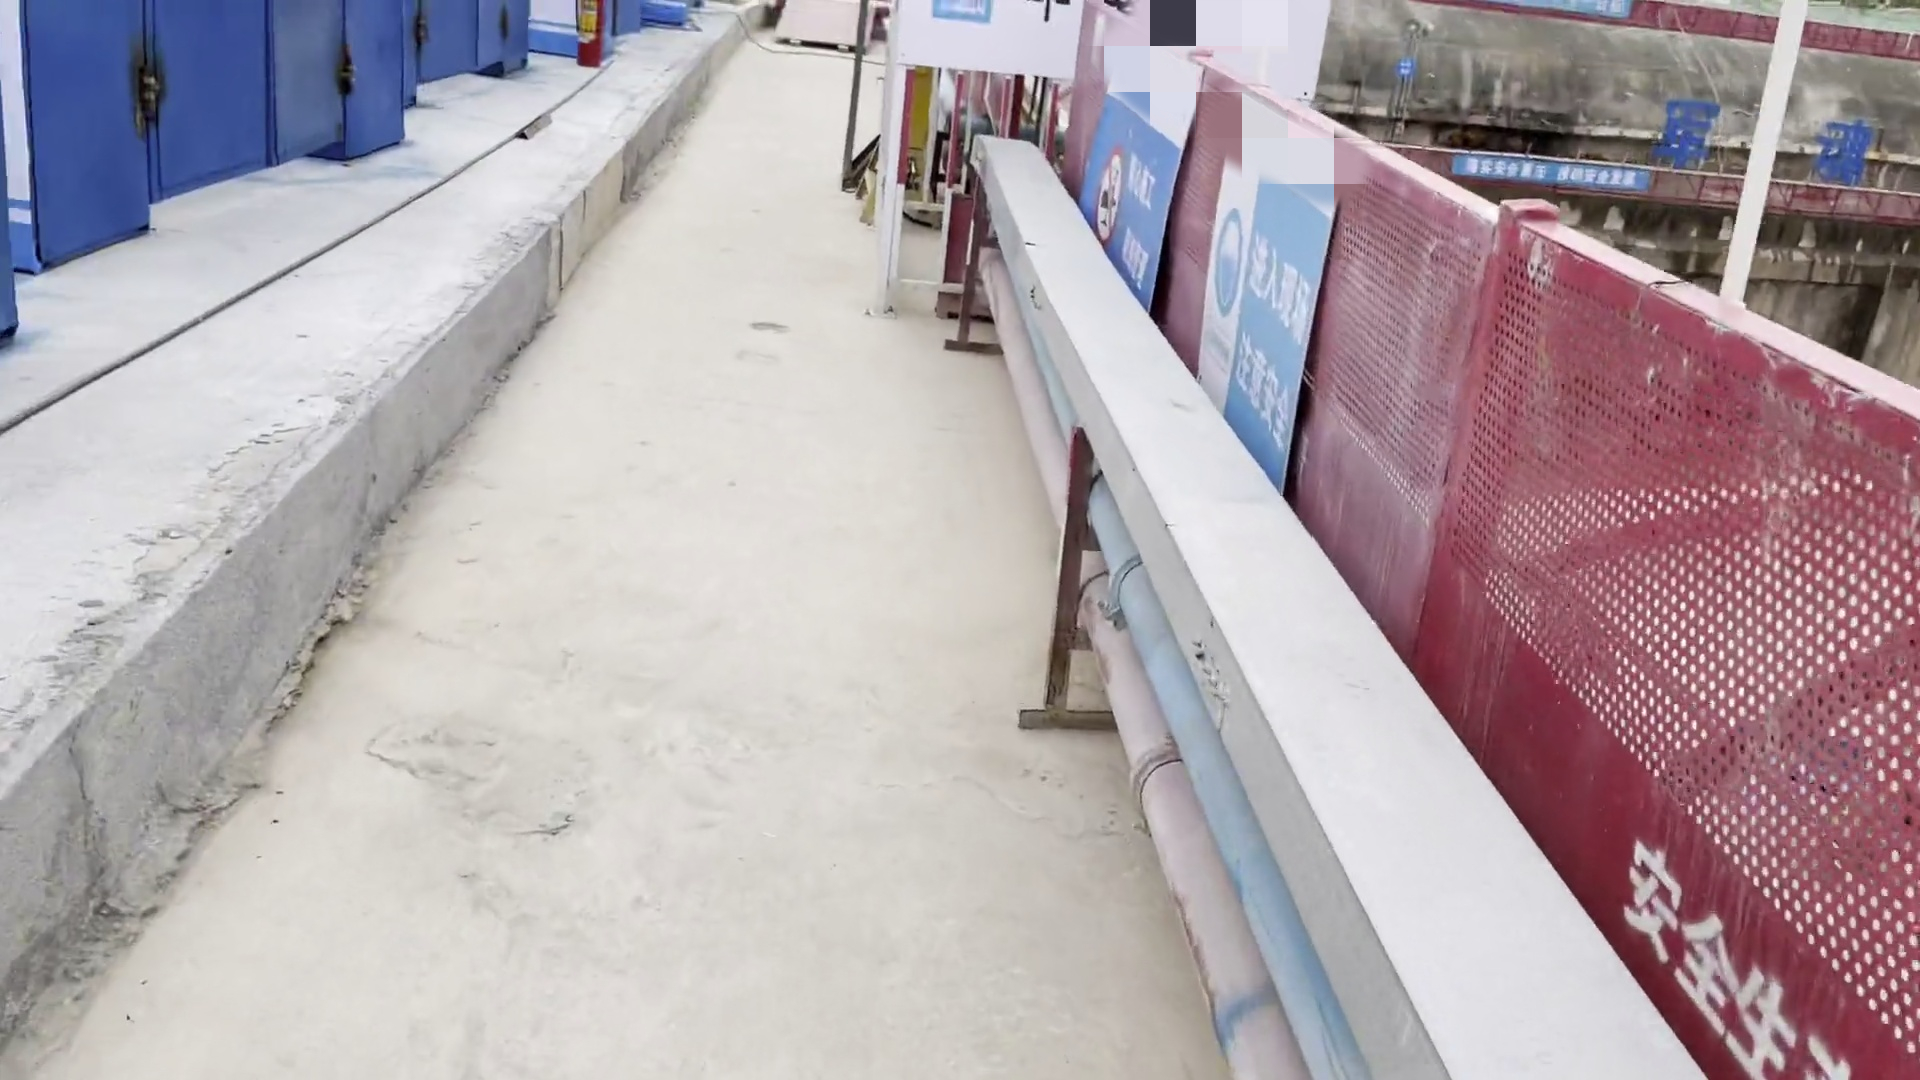ebox: (884, 50, 934, 179)
fence: (1480, 211, 1920, 1080), (1067, 5, 1513, 764), (1390, 141, 1716, 214)
slogan: (1021, 36, 1335, 489), (1448, 142, 1660, 207)
